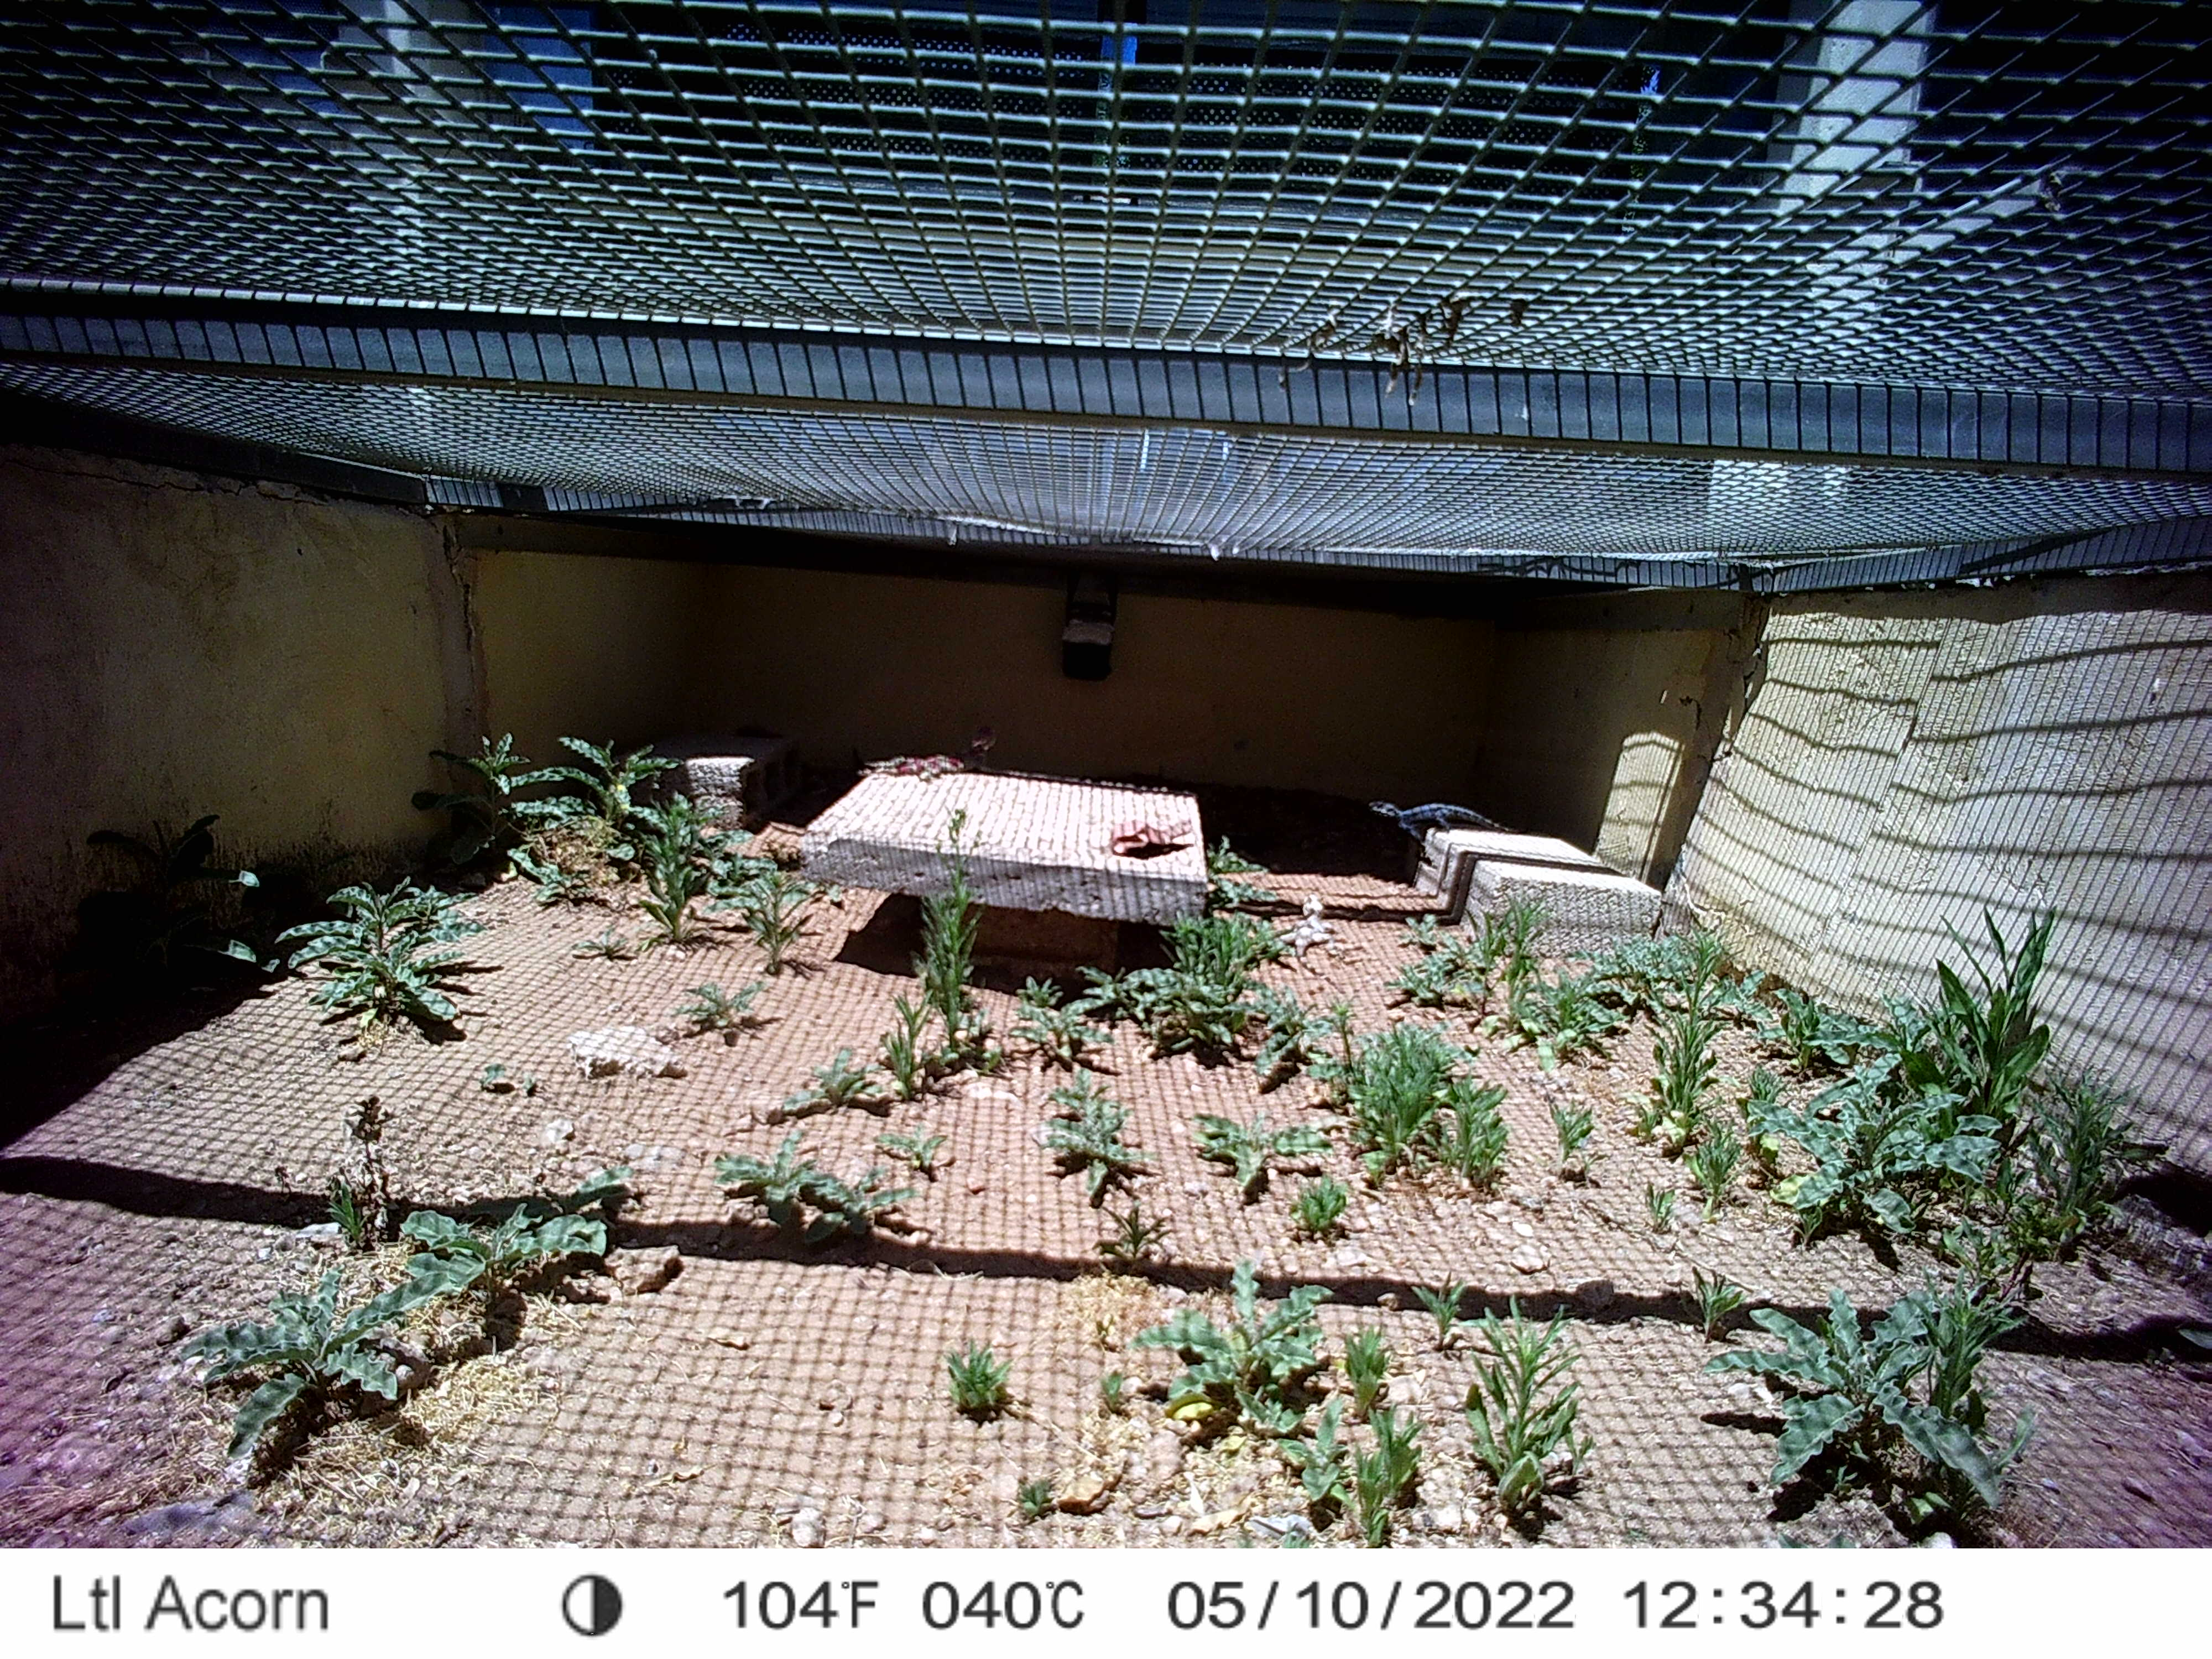lizard: (846, 723, 1010, 788), (1357, 789, 1529, 847), (1259, 890, 1346, 992)
